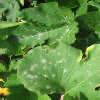Squash Powdery mildew leaf: (16, 43, 99, 93), (13, 1, 81, 45)
